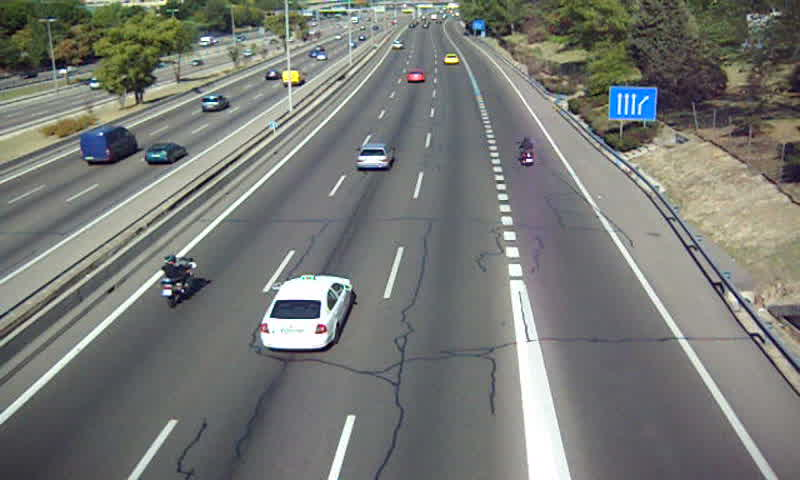car: (260, 276, 350, 350), (355, 144, 396, 171), (408, 69, 426, 85), (444, 54, 461, 64)
motorcycle: (160, 253, 198, 307), (518, 136, 536, 166)
